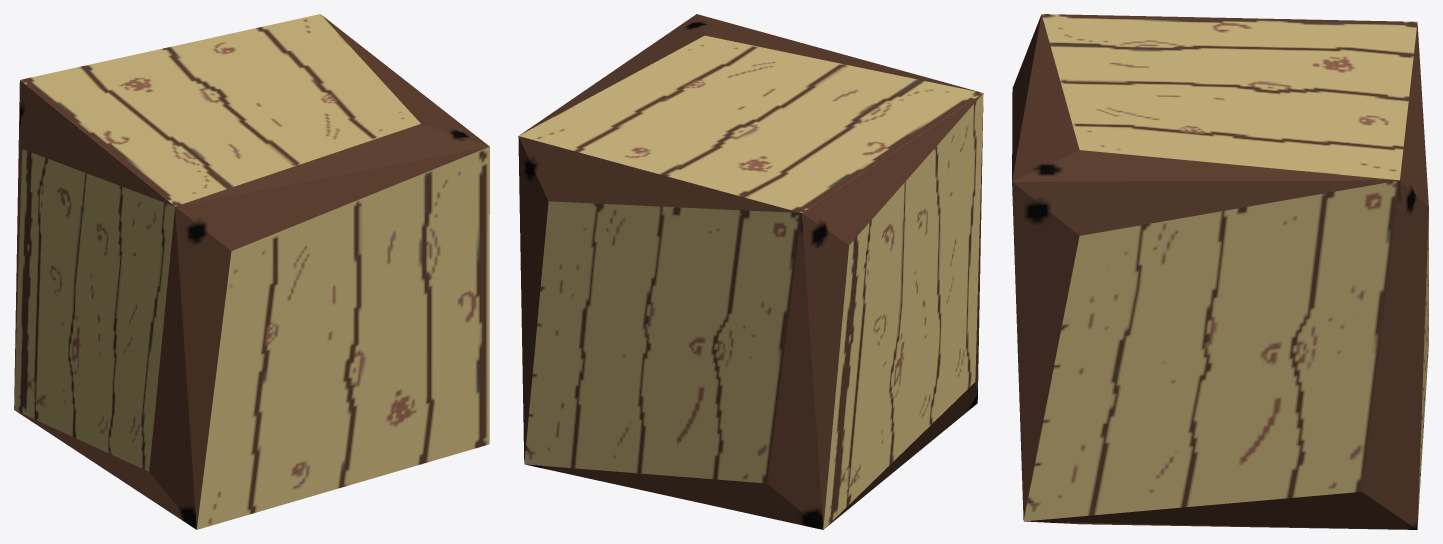
3 renders of one model, left to right at view 1: azimuth 30°, elevation 25°; view 2: azimuth 150°, elevation 25°; view 3: azimuth 270°, elevation 25°, orthographic. The views are drawn at different scales.
Parts seen in each view (by area): view 1: ЛОД 2; view 2: ЛОД 2; view 3: ЛОД 2.
Boxes of the visible parts, bbox=[...] form: ЛОД 2: bbox=[14, 14, 489, 529]; ЛОД 2: bbox=[518, 14, 983, 529]; ЛОД 2: bbox=[1012, 14, 1428, 529].
Size of the model in its own units: 197 by 197 by 195.
